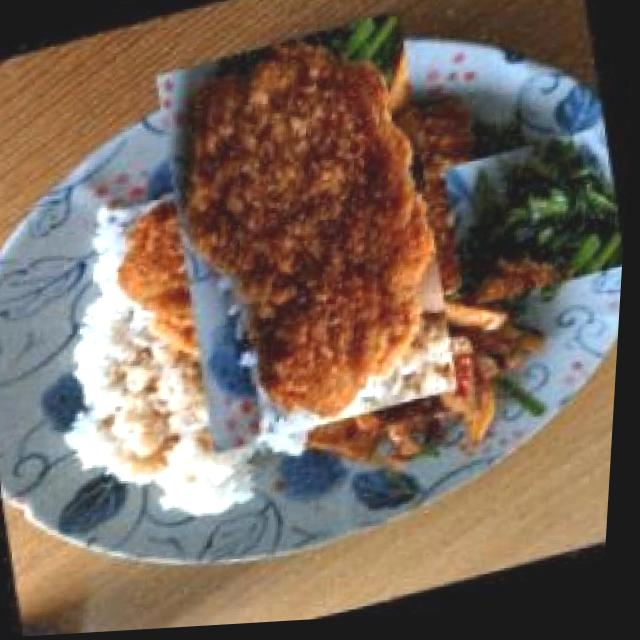fried_chicken: (109, 39, 510, 437)
rice: (58, 347, 261, 529)
water_spinach: (441, 122, 633, 324)
